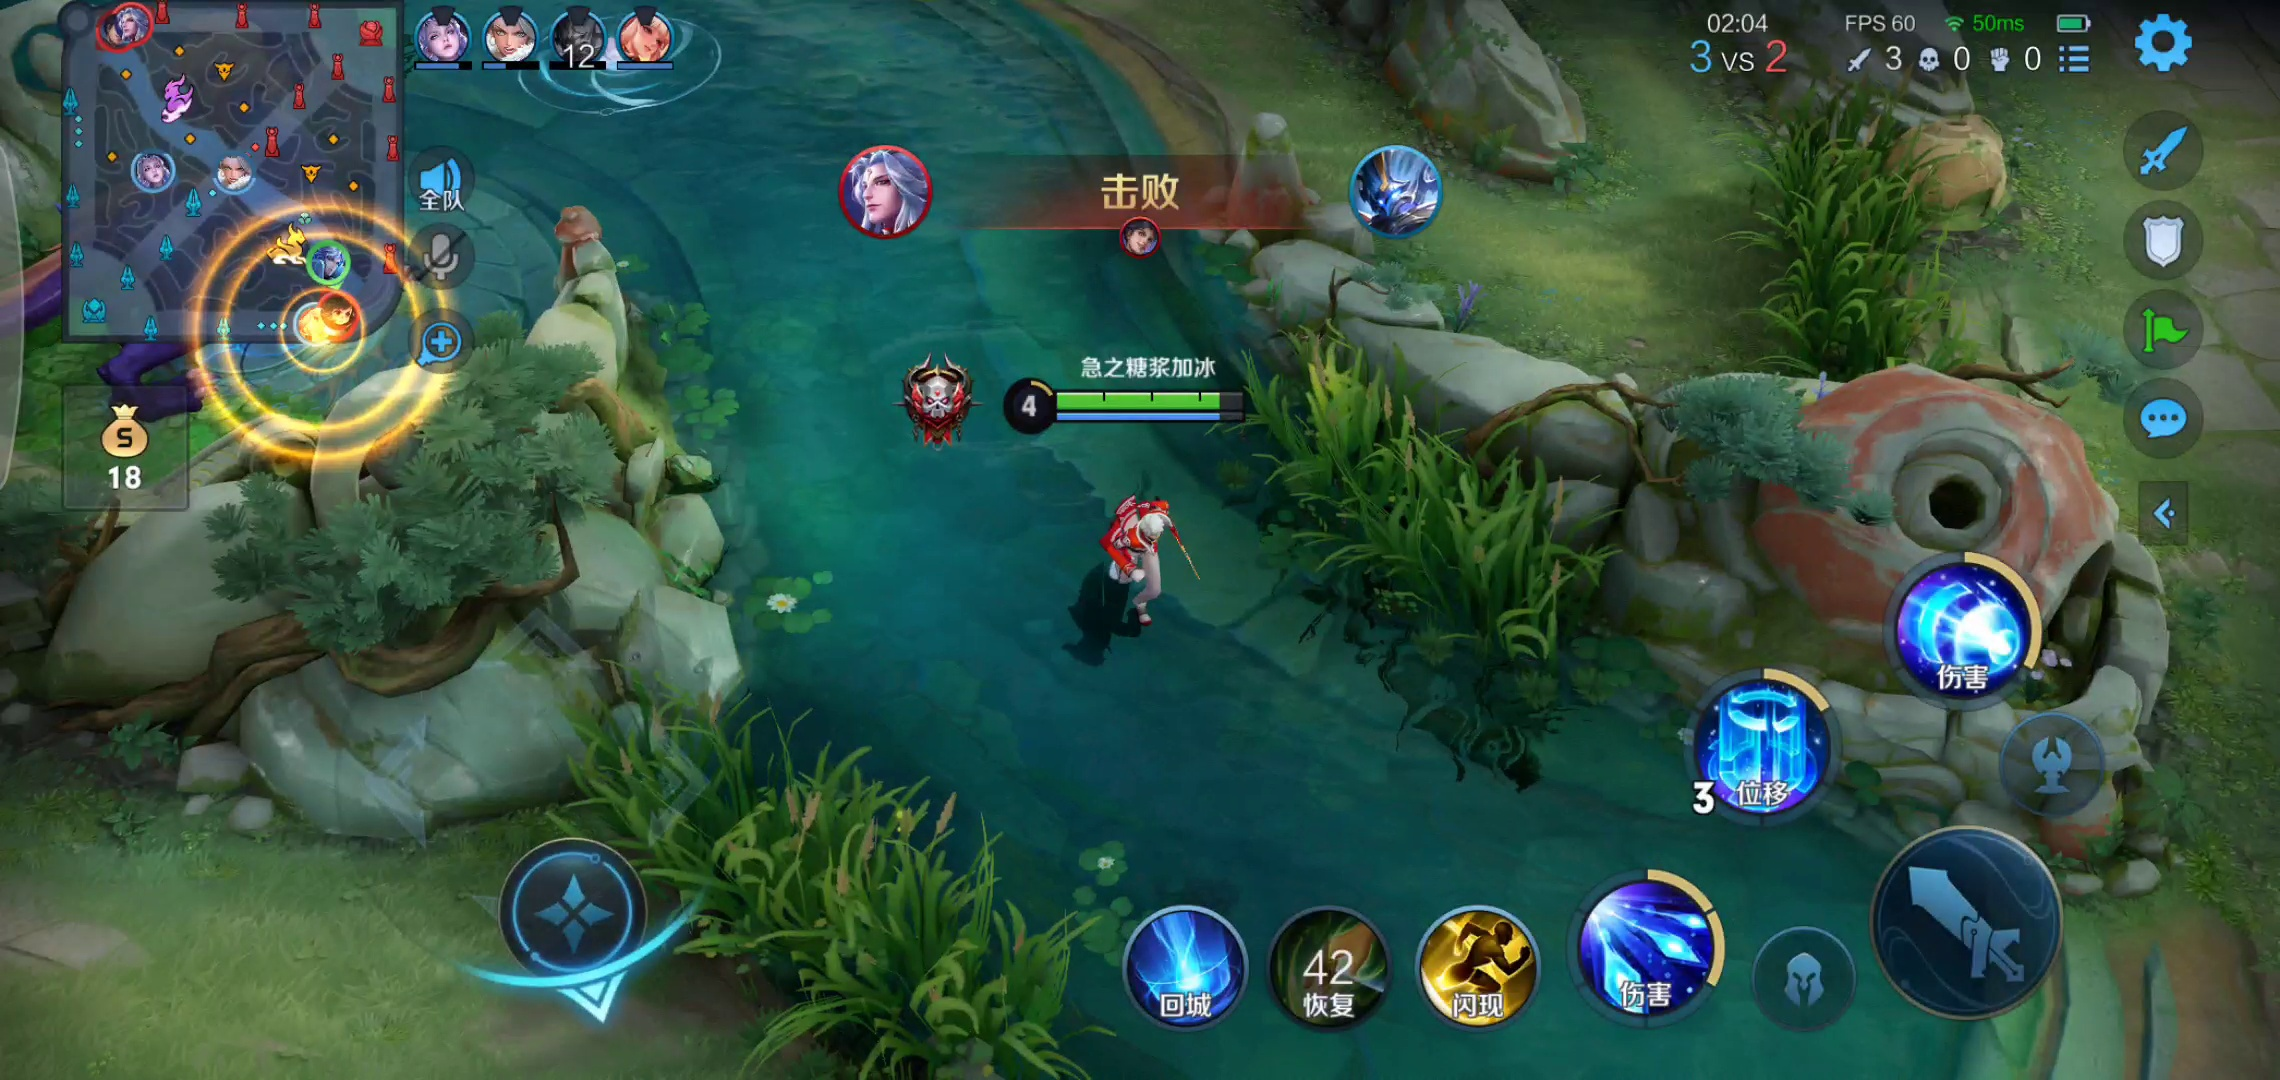grass: (585, 692, 1088, 1076), (1251, 363, 1565, 651), (1749, 110, 1943, 376)
hero: (1077, 480, 1208, 640)
